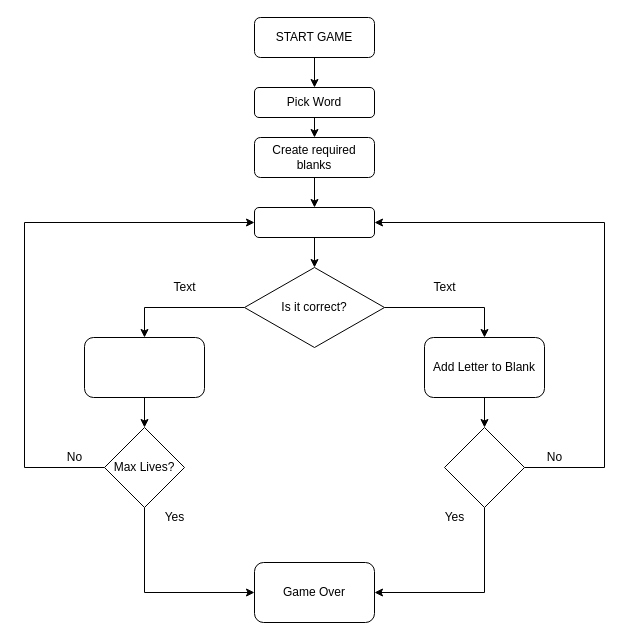
Image size: 630x640. Some labels were removed from this diagram. Here are the shapes that lost their labels. From the top down, the centre of each, then its label:
At (314,222): "User Input Guess".
At (144,367): "Draw Body Part".
At (484,467): "All Correct?".
